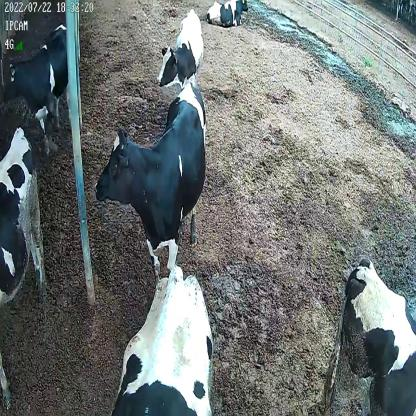cow: (92, 80, 207, 282), (4, 25, 74, 151), (156, 9, 206, 91), (204, 1, 249, 30)
